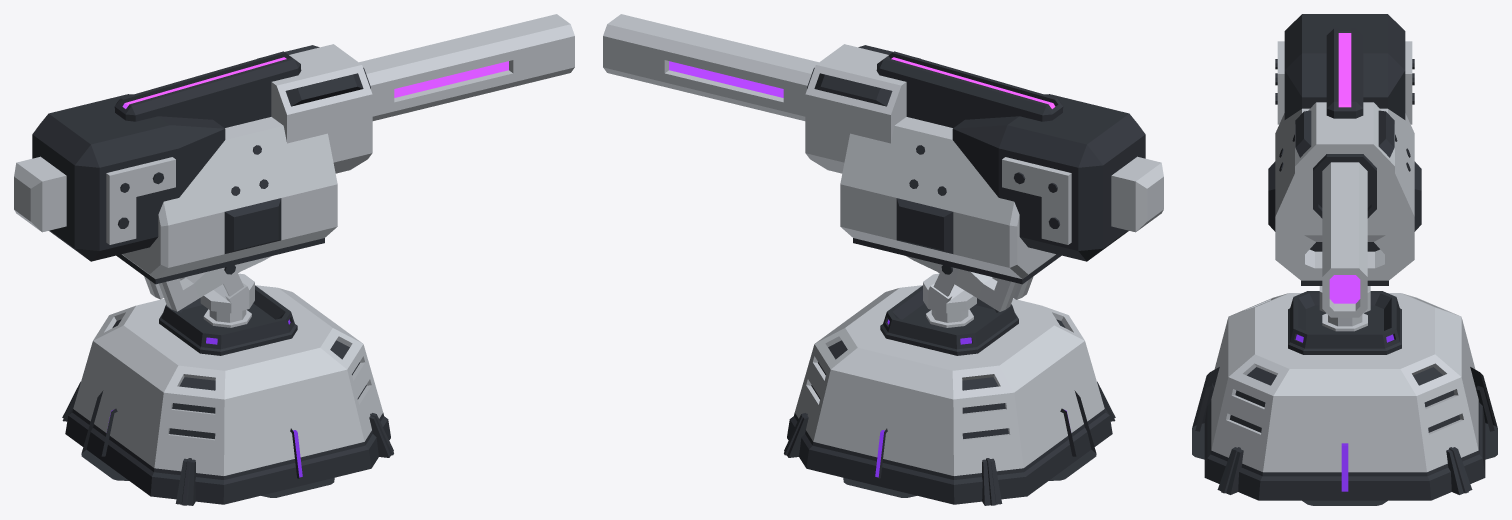
Rendered from Turret1.glb.
3 views of the same model, side by side, from view 1: azimuth 30°, elevation 25°; view 2: azimuth 150°, elevation 25°; view 3: azimuth 270°, elevation 25° (orthographic).
Parts seen in each view (by area): view 1: GunLight.001, BaseLight.001, GunDark.001, BaseDark.001, BaseTurretLight.001, GunNeon.001; view 2: GunLight.001, BaseLight.001, GunDark.001, BaseDark.001, BaseTurretLight.001, GunNeon.001; view 3: BaseLight.001, GunLight.001, BaseDark.001, GunDark.001, GunNeon.001, BaseTurretLight.001, BaseNeon.001.
Part boxes in pixels (<box>): GunLight.001: <box>14,14,574,279</box>; BaseLight.001: <box>73,285,383,475</box>; GunDark.001: <box>32,45,370,284</box>; BaseDark.001: <box>62,285,393,505</box>; BaseTurretLight.001: <box>144,256,271,327</box>; GunNeon.001: <box>122,57,508,108</box>; GunLight.001: <box>603,14,1163,279</box>; BaseLight.001: <box>794,285,1104,475</box>; GunDark.001: <box>807,45,1145,284</box>; BaseDark.001: <box>784,285,1115,505</box>; BaseTurretLight.001: <box>906,256,1033,327</box>; GunNeon.001: <box>669,57,1055,108</box>; BaseLight.001: <box>1211,293,1478,472</box>; GunLight.001: <box>1275,41,1414,317</box>; BaseDark.001: <box>1192,291,1497,505</box>; GunDark.001: <box>1268,14,1421,285</box>; GunNeon.001: <box>1329,33,1360,303</box>; BaseTurretLight.001: <box>1319,286,1370,331</box>; BaseNeon.001: <box>1295,334,1394,491</box>.
Size of the model in its own units: 4.55 by 2.94 by 2.2.
